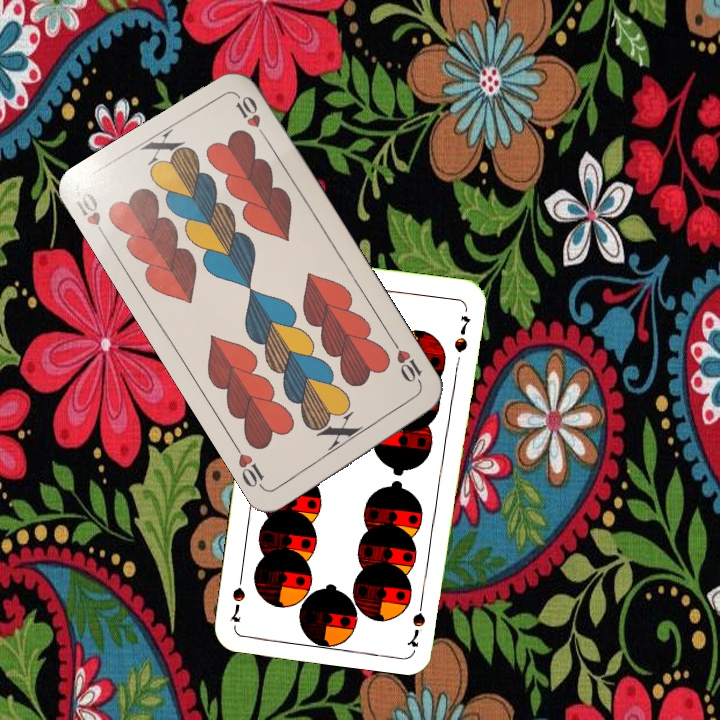H10: (72, 188, 111, 244), (388, 337, 426, 391)
S7: (406, 591, 428, 650)
